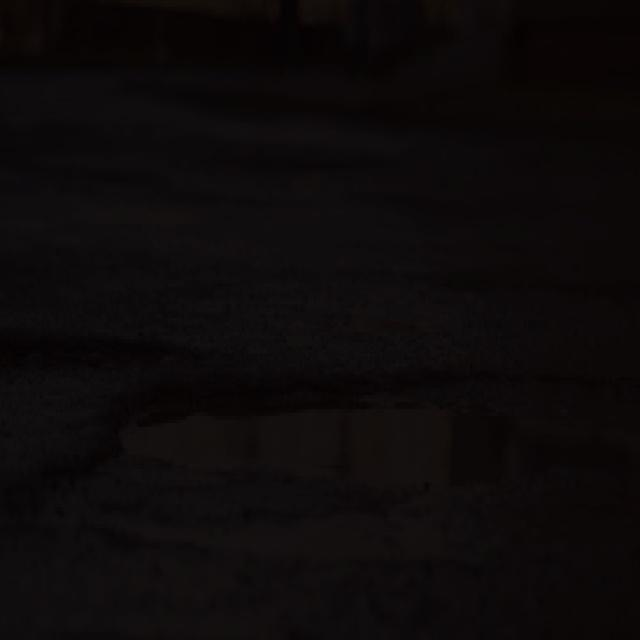Pothole: (96, 368, 640, 564), (0, 306, 221, 383)
